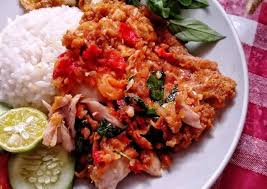ayam_geprek: (50, 17, 238, 143)
